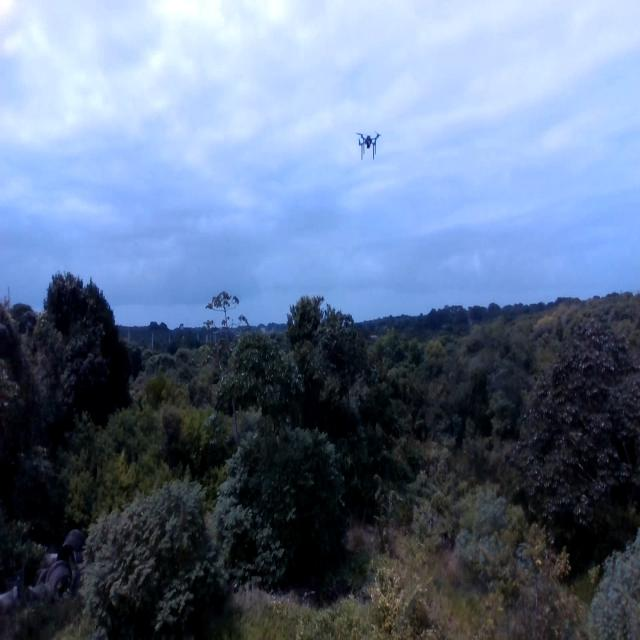-uav-: (352, 121, 387, 178)
